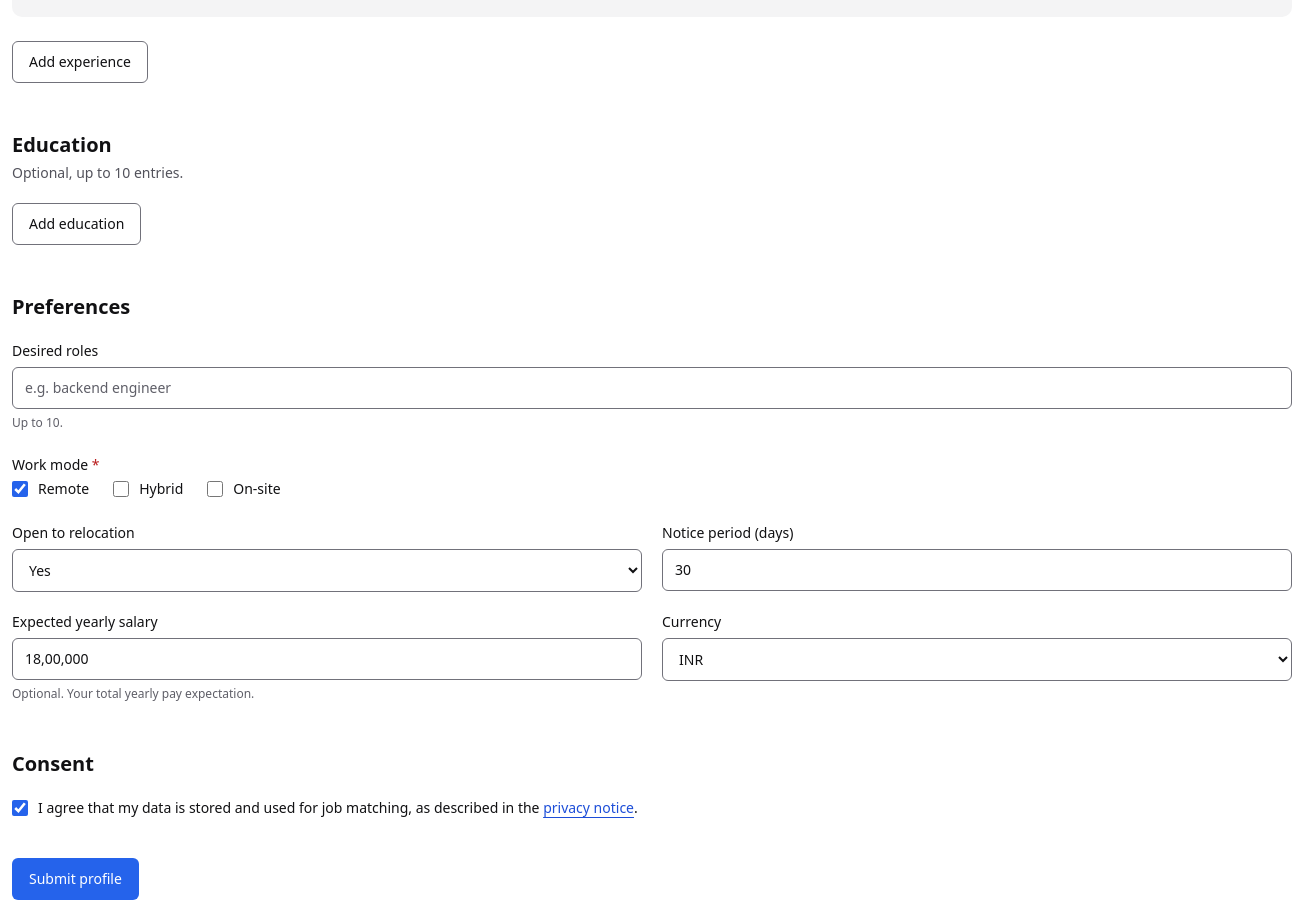
Test case: CandidateForm › maps server validation errors onto fields
(page scrolled)
Click the button "Submit profile" at (75, 878), box [12,858,139,899]
(page scrolled)
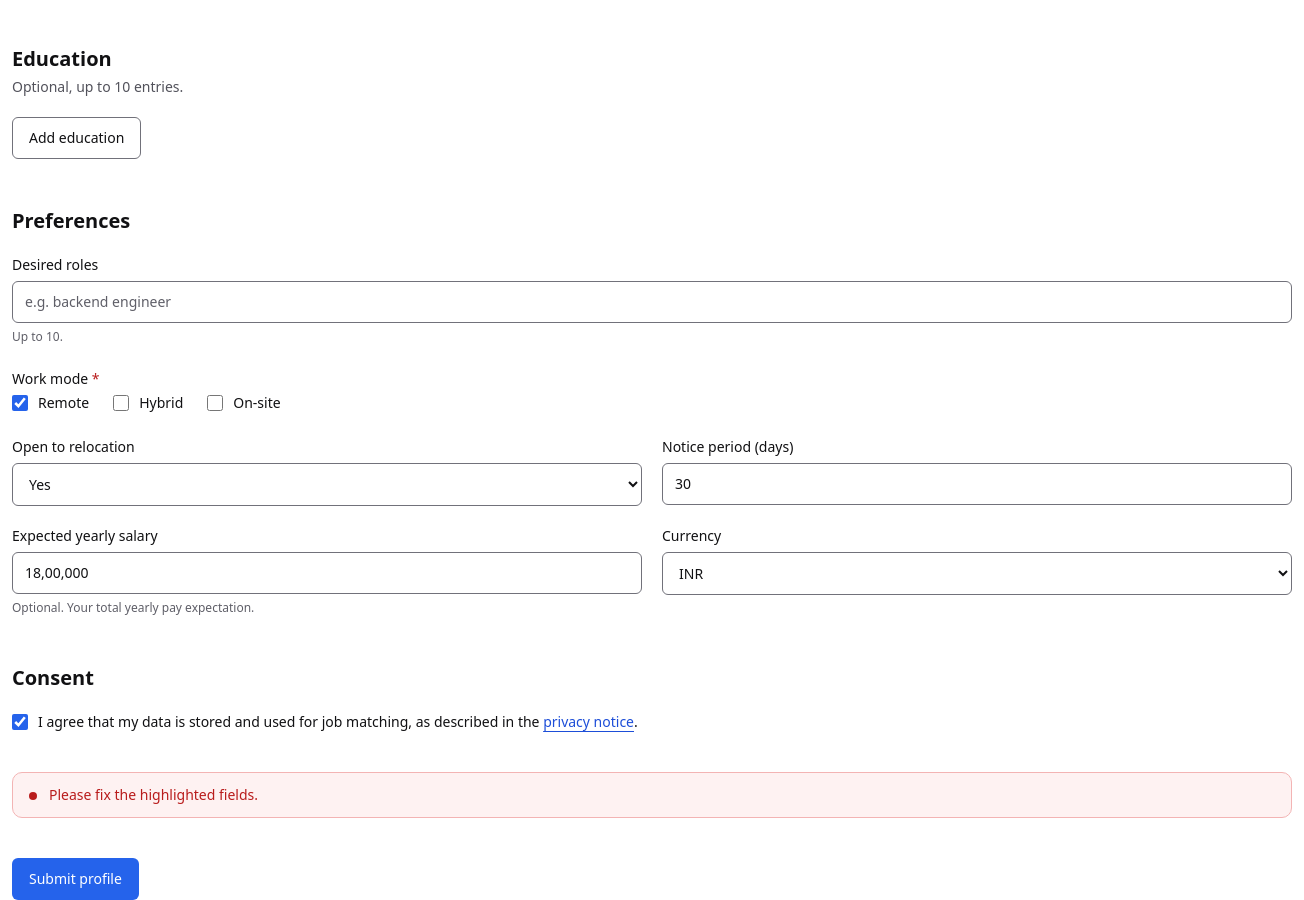
Expected: the text "Please fix the highlighted fields." is shown, [49,784,258,804]
